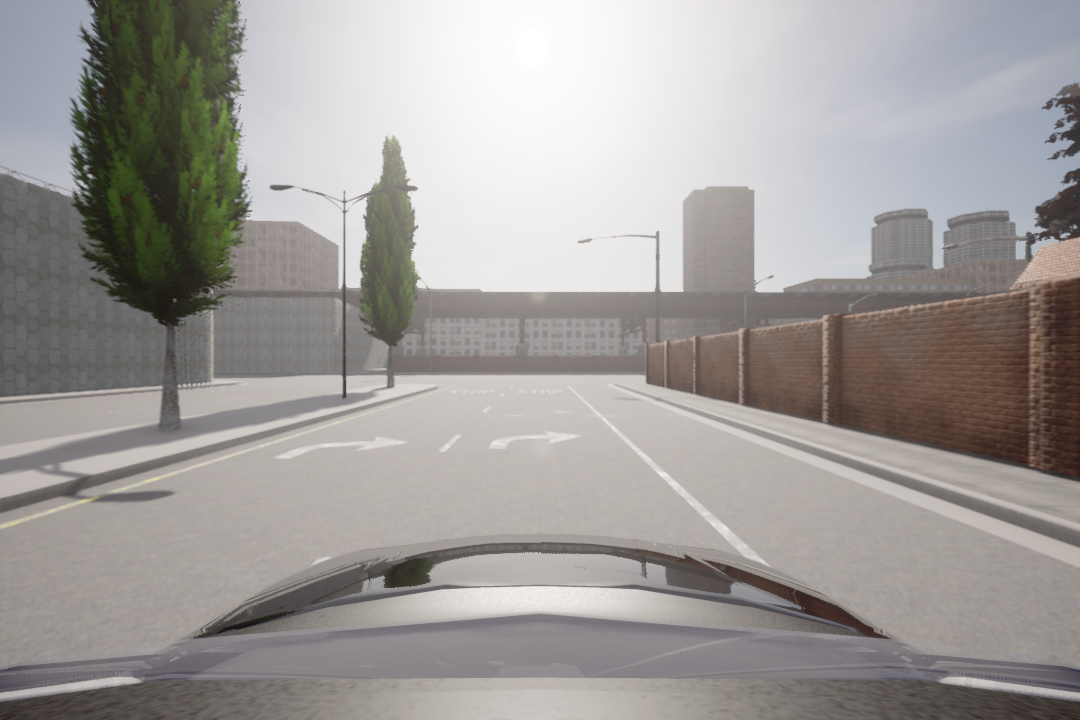RoadSign_right: (267, 434, 412, 461), (483, 425, 580, 457)
